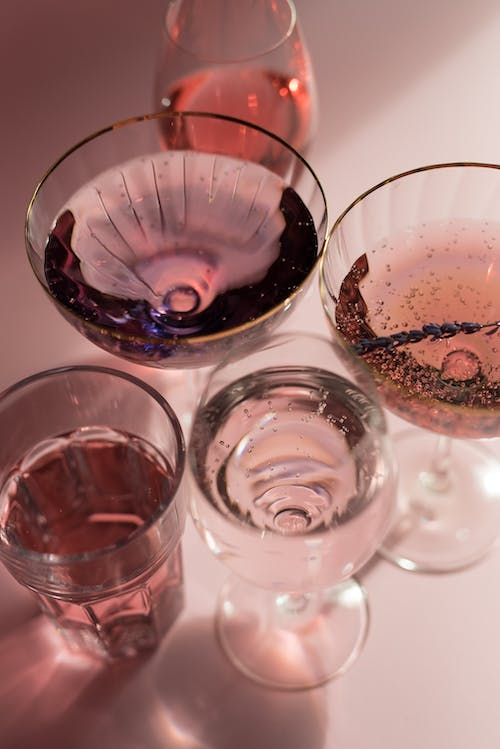alcohol: (22, 109, 329, 368), (186, 331, 403, 694), (317, 159, 500, 578), (0, 363, 187, 659), (148, 0, 321, 193)
